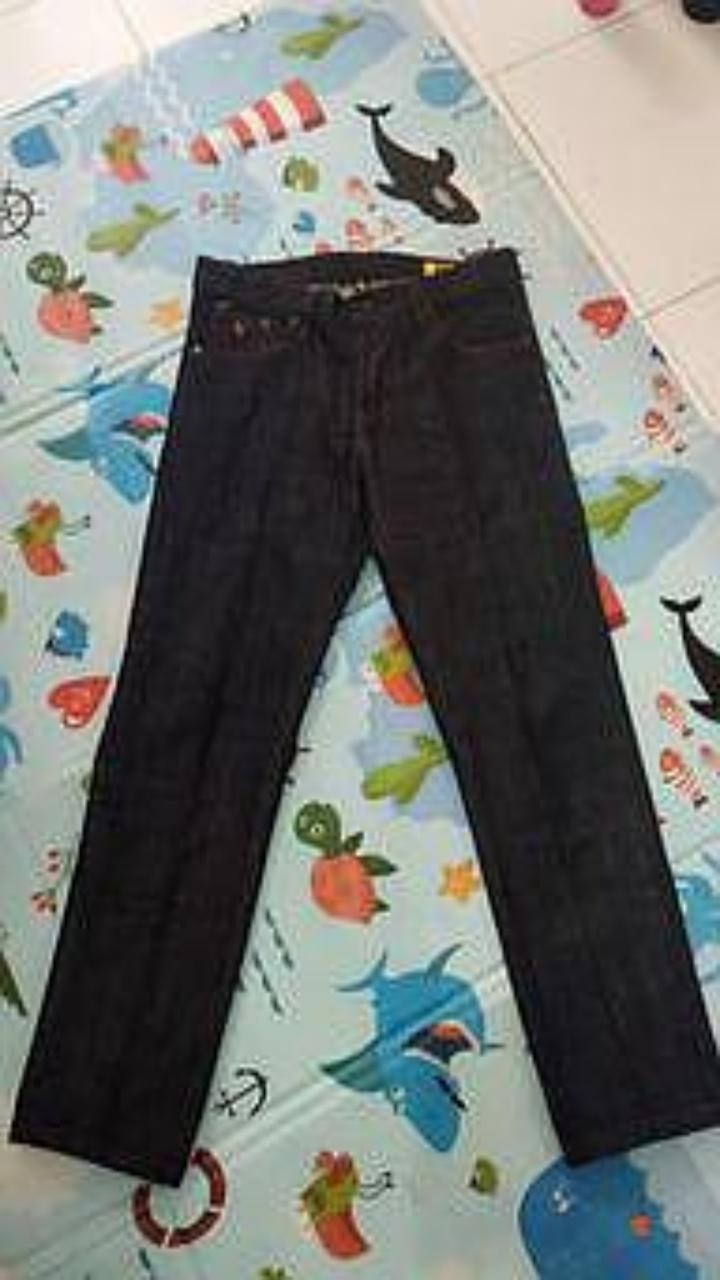Jeans: (10, 248, 719, 1184)
